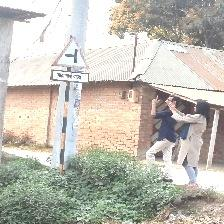Side-road-left: (51, 37, 90, 83)
